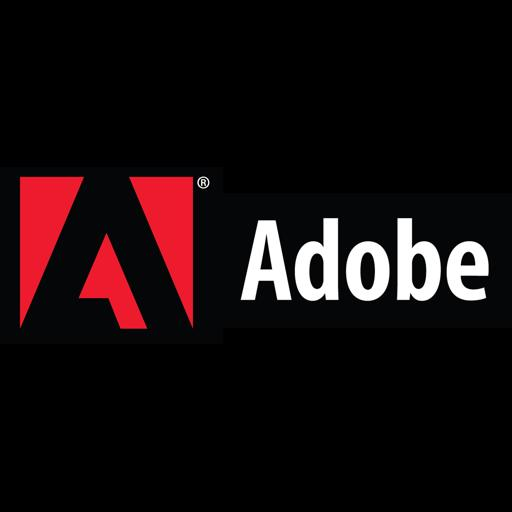Adobe: (0, 167, 512, 344)
